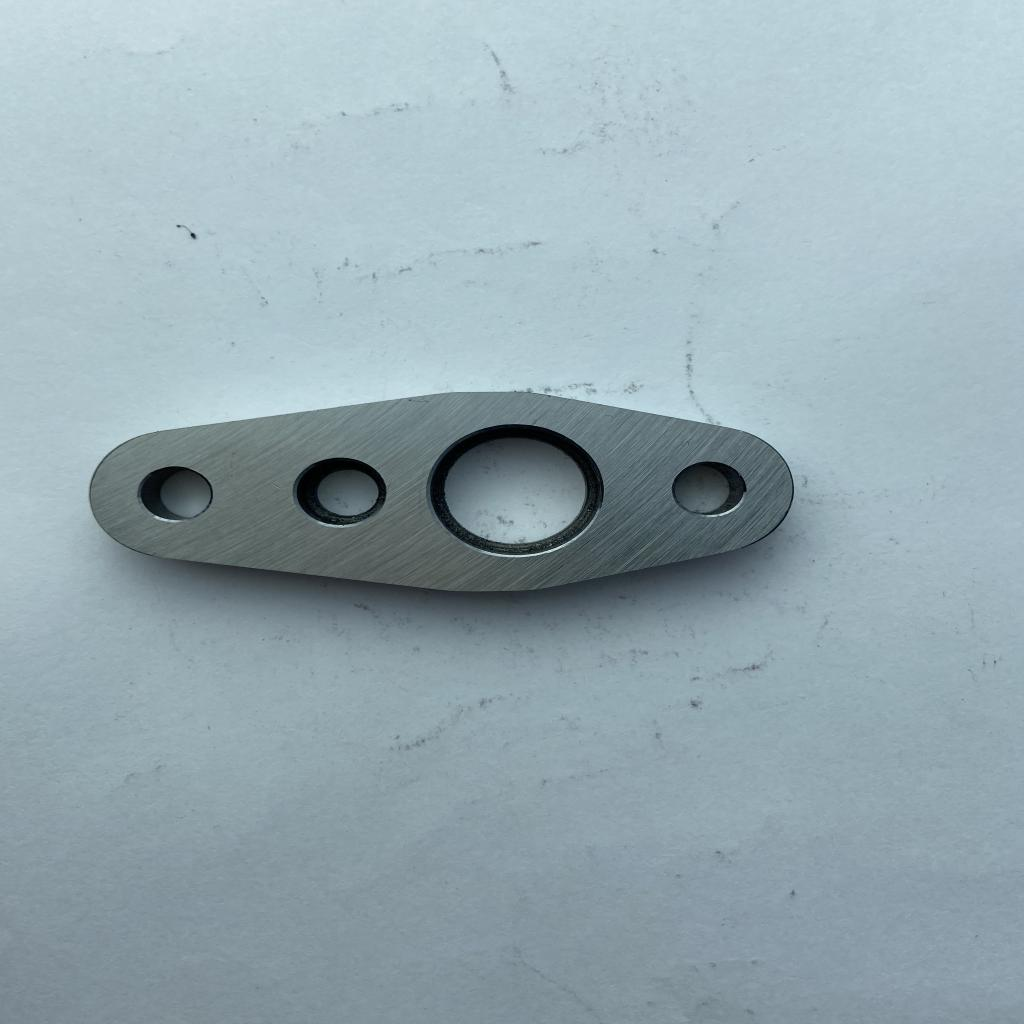chap: (269, 480, 283, 490)
lines: (406, 398, 432, 405)
